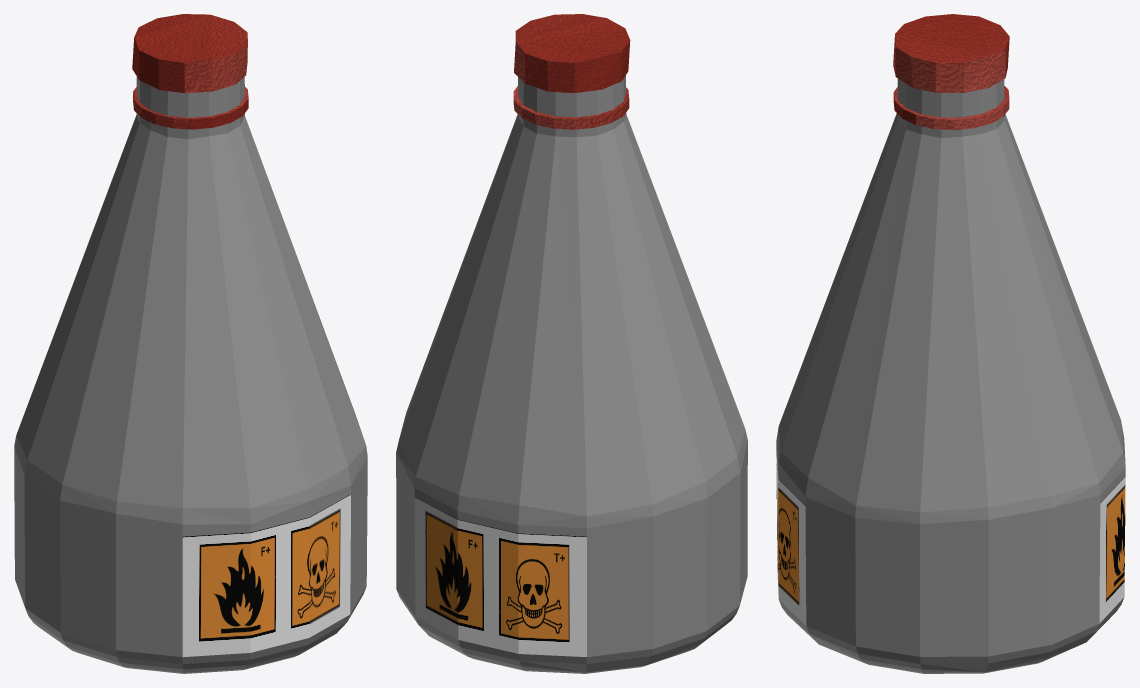
The model's file is Container 5.FBX.
The picture shows the model from 3 angles, left to right: view 1: azimuth 30°, elevation 25°; view 2: azimuth 150°, elevation 25°; view 3: azimuth 270°, elevation 25°; orthographic projection.
Visible parts, largest first — view 1: Container 5; view 2: Container 5; view 3: Container 5.
Boxes of the visible parts, box(x1,y1,x2,y2) form: Container 5: box(14, 14, 367, 673); Container 5: box(396, 14, 747, 673); Container 5: box(776, 14, 1125, 673).
Size of the model in its own units: 8.64 by 8.66 by 15.76.
3 materials, 1 textured.
